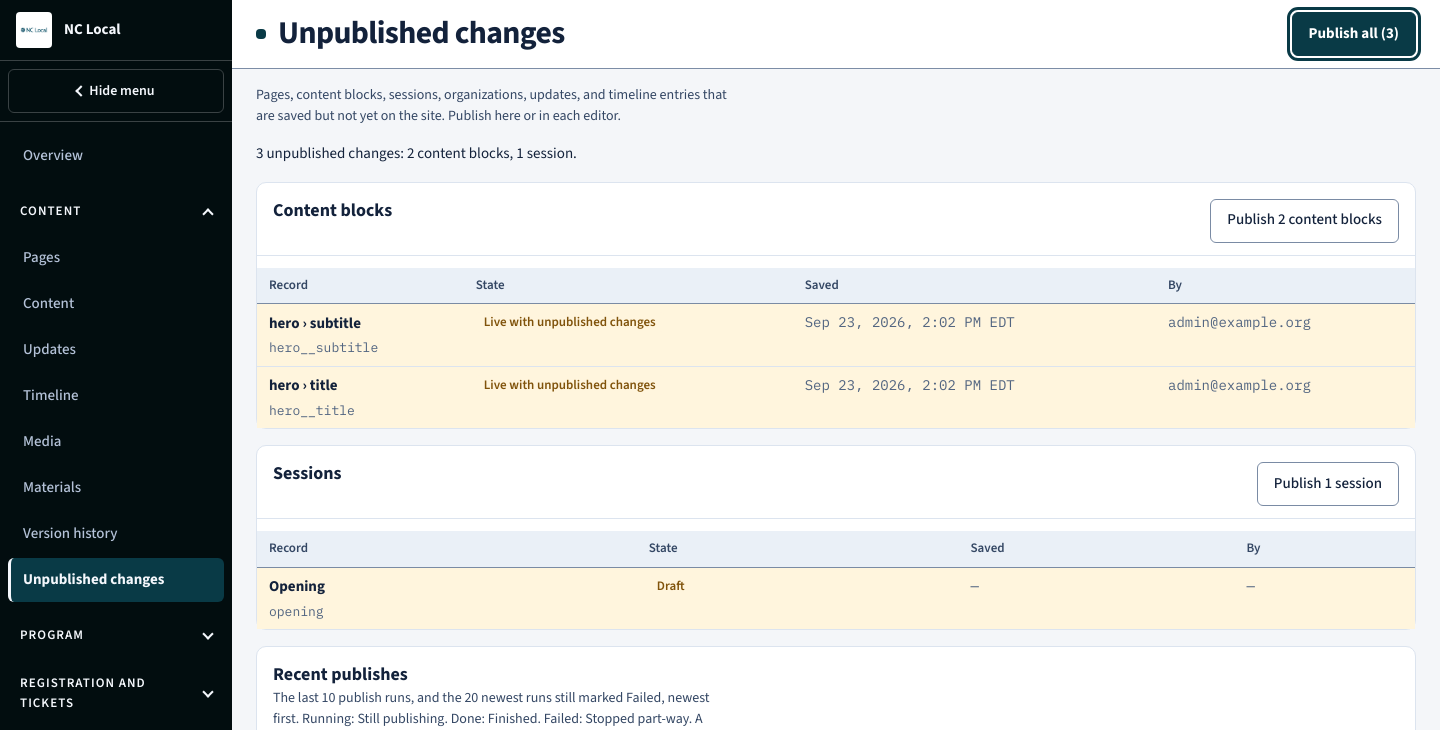
Scenario: the Unpublished changes page › publishes everything with { all: true } and reads the whole answer
The image size is (1440, 730).
Expected: the heading "Unpublished changes" is shown, [278, 15, 565, 53]
Click the button "Publish all (3)": (1354, 34) [1292, 12, 1416, 56]
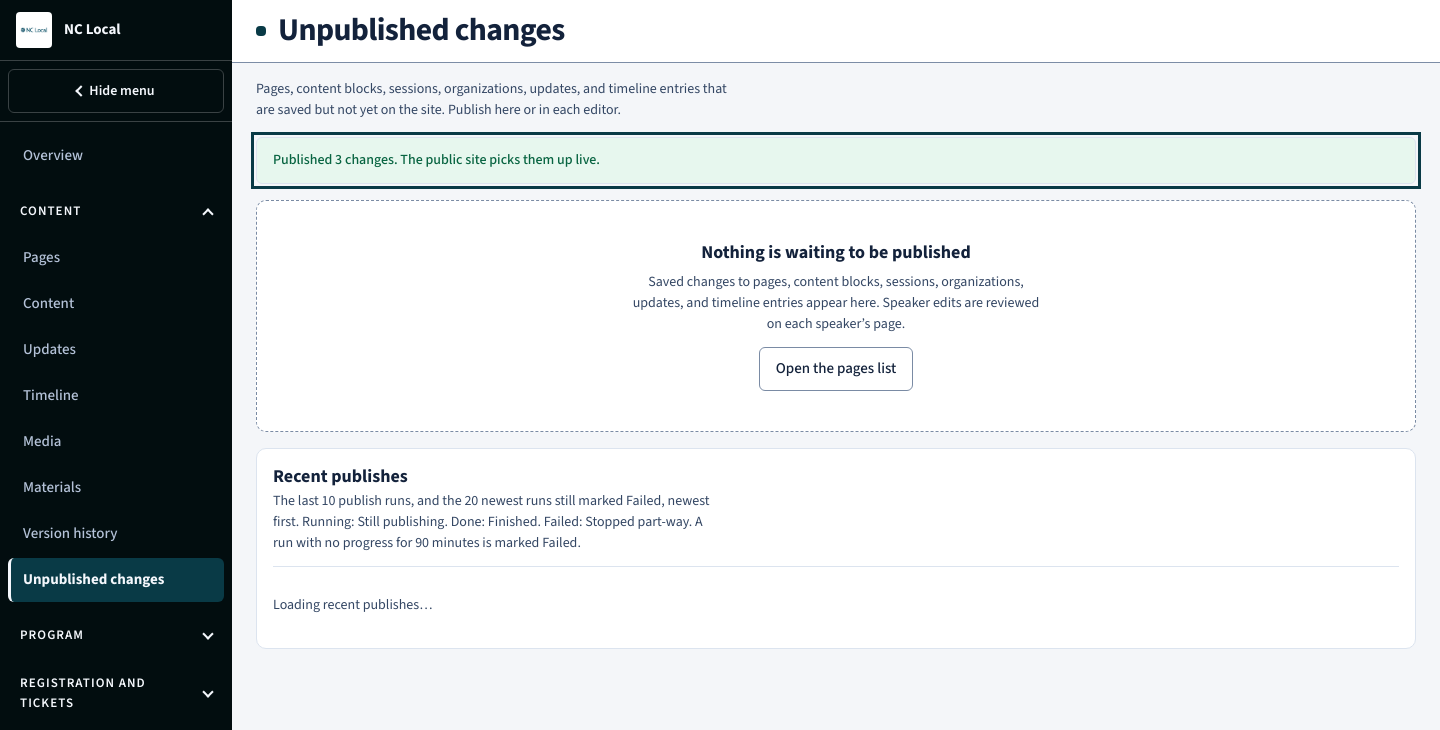
Expected: the text "Published 3 changes. The public site picks them up live." is shown, [256, 137, 1416, 184]
